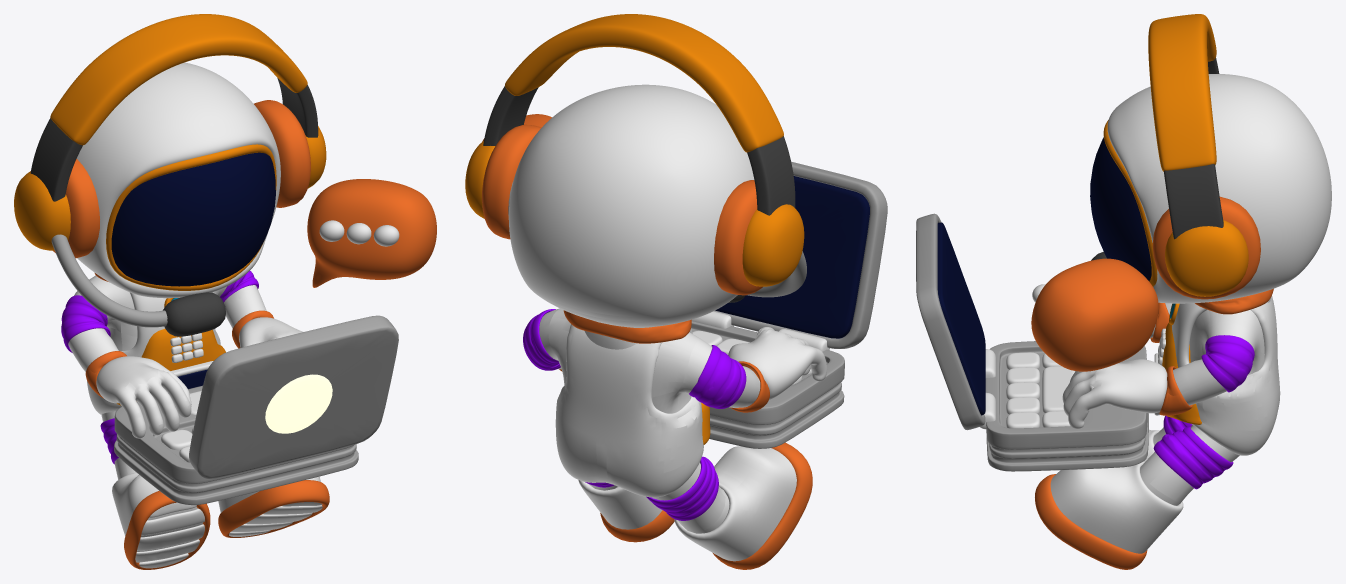
The model's file is contacto.glb.
3 renders of one model, left to right at view 1: azimuth 30°, elevation 25°; view 2: azimuth 150°, elevation 25°; view 3: azimuth 270°, elevation 25°, orthographic. The views are drawn at different scales.
Parts seen in each view (by area): view 1: Cube.136, Cube.129, Cube.119, Circle.009, Cube.127, Cube.226, Cube.135, Cube.132, Cube.133, Cube.134, Cube.131, Circle.008 (+9 smaller); view 2: Cube.129, Cube.123, Cube.127, Circle.009, Cube.137, Cube.135, Cube.133, Cube.131, Cube.134, Cube.136, Circle.008, Cube.132 (+8 smaller); view 3: Cube.129, Cube.226, Cube.127, Cube.135, Circle.009, Cube.123, Cube.134, Cube.136, Cube.119, Cube.132, Cube.137, Cube.131 (+12 smaller).
Part boxes in pixels (x1,y1,x2,y2): Cube.136: (189,315,398,478); Cube.129: (76,62,280,298); Cube.119: (111,152,275,286); Circle.009: (50,14,307,145); Cube.127: (112,472,329,569); Cube.226: (307,179,436,287); Cube.135: (114,385,358,505); Cube.132: (96,317,302,438); Cube.133: (53,100,310,258); Cube.134: (14,126,326,250); Cube.131: (68,275,266,371); Circle.008: (30,78,318,201); Cube.129: (508,84,754,327); Cube.123: (555,324,703,497); Cube.127: (578,442,812,569); Circle.009: (505,14,783,152); Cube.137: (715,176,869,338); Cube.135: (691,321,844,448); Cube.133: (482,124,762,295); Cube.131: (539,308,760,413); Cube.134: (465,140,804,286); Cube.136: (713,161,887,348); Circle.008: (483,86,795,215); Cube.132: (728,327,826,399); Cube.129: (1107,74,1331,303); Cube.226: (1031,258,1158,371); Cube.127: (1035,429,1183,569); Cube.135: (985,341,1148,471); Circle.009: (1148,14,1216,171); Cube.123: (1172,296,1280,455); Cube.134: (1165,220,1248,296); Cube.136: (916,213,985,430); Cube.119: (1090,137,1151,280); Cube.132: (1062,324,1167,428); Cube.137: (937,222,985,415); Cube.131: (1152,298,1270,405).
Size of the model in its own units: 1.49 by 2.09 by 1.52.
